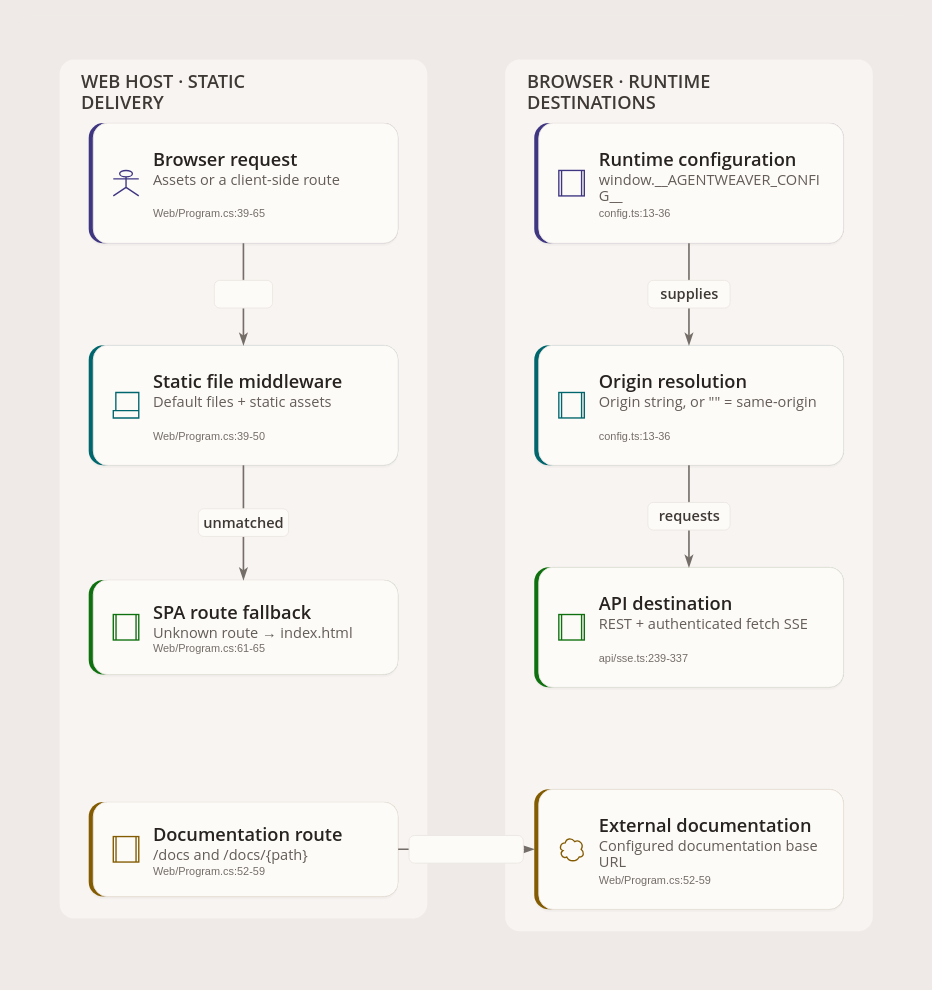
Some shapes in this 932 by 990 pixel diagram are drawn without their labels. Here are the shapes that lost their labels. From the top down, the centre of each, then its label:
At pixel 243 293: "asset".
At pixel 465 849: "302 redirect".
